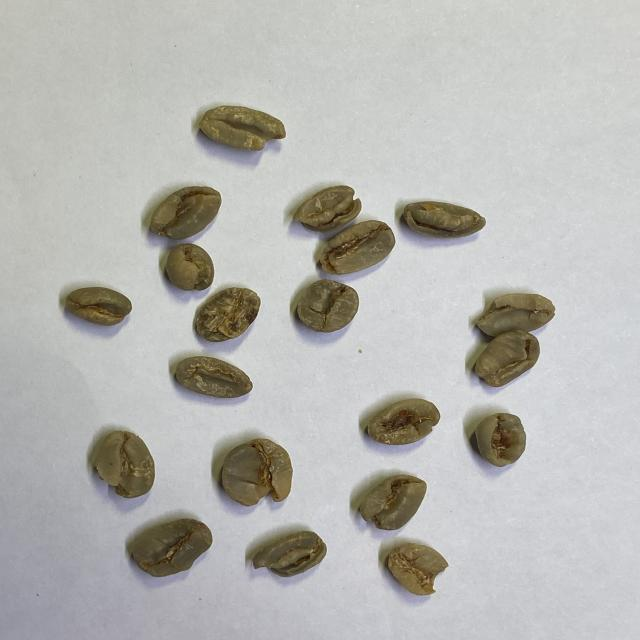bad: (216, 435, 296, 509), (127, 514, 215, 578), (89, 428, 159, 502), (316, 218, 398, 278), (195, 103, 289, 155), (146, 183, 224, 242), (355, 471, 429, 533), (470, 328, 543, 390), (248, 527, 328, 583), (191, 284, 264, 345), (293, 276, 361, 336), (473, 290, 558, 338), (170, 354, 256, 401), (365, 396, 442, 448), (383, 540, 452, 598), (400, 198, 488, 242), (290, 183, 364, 234), (62, 282, 135, 329), (472, 410, 528, 469), (163, 241, 218, 293)
